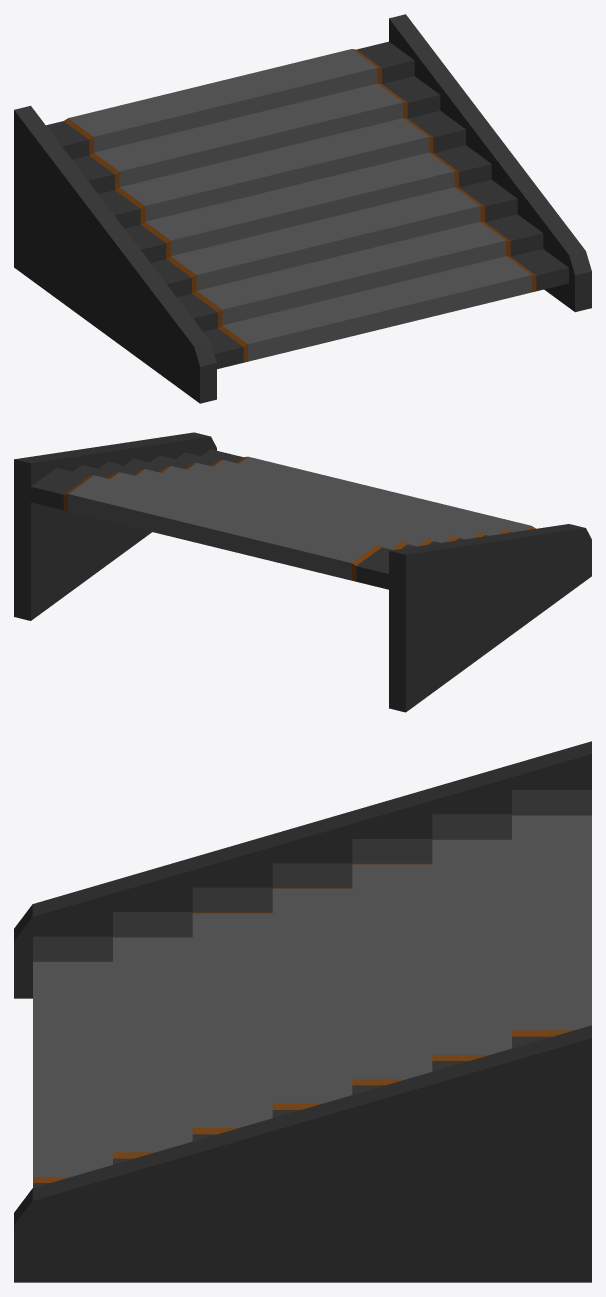
Rendered from Staircase.obj.
The picture shows the model from 3 angles, top to bottom: view 1: azimuth 30°, elevation 25°; view 2: azimuth 150°, elevation 25°; view 3: azimuth 270°, elevation 25°; orthographic projection. The views are drawn at different scales.
Visible parts, largest first — view 1: Staircase_Plane.319; view 2: Staircase_Plane.319; view 3: Staircase_Plane.319.
Part boxes in pixels (x1,y1,x2,y2): Staircase_Plane.319: (14,14,591,403); Staircase_Plane.319: (14,432,591,712); Staircase_Plane.319: (14,741,591,1282).
Bounding box in the file's own units: 3.78 × 1.45 × 3.11.
